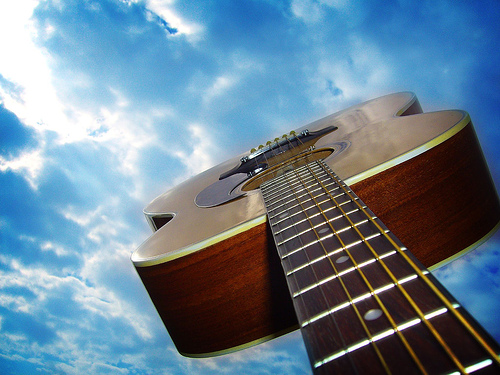guitar: (127, 91, 497, 375)
